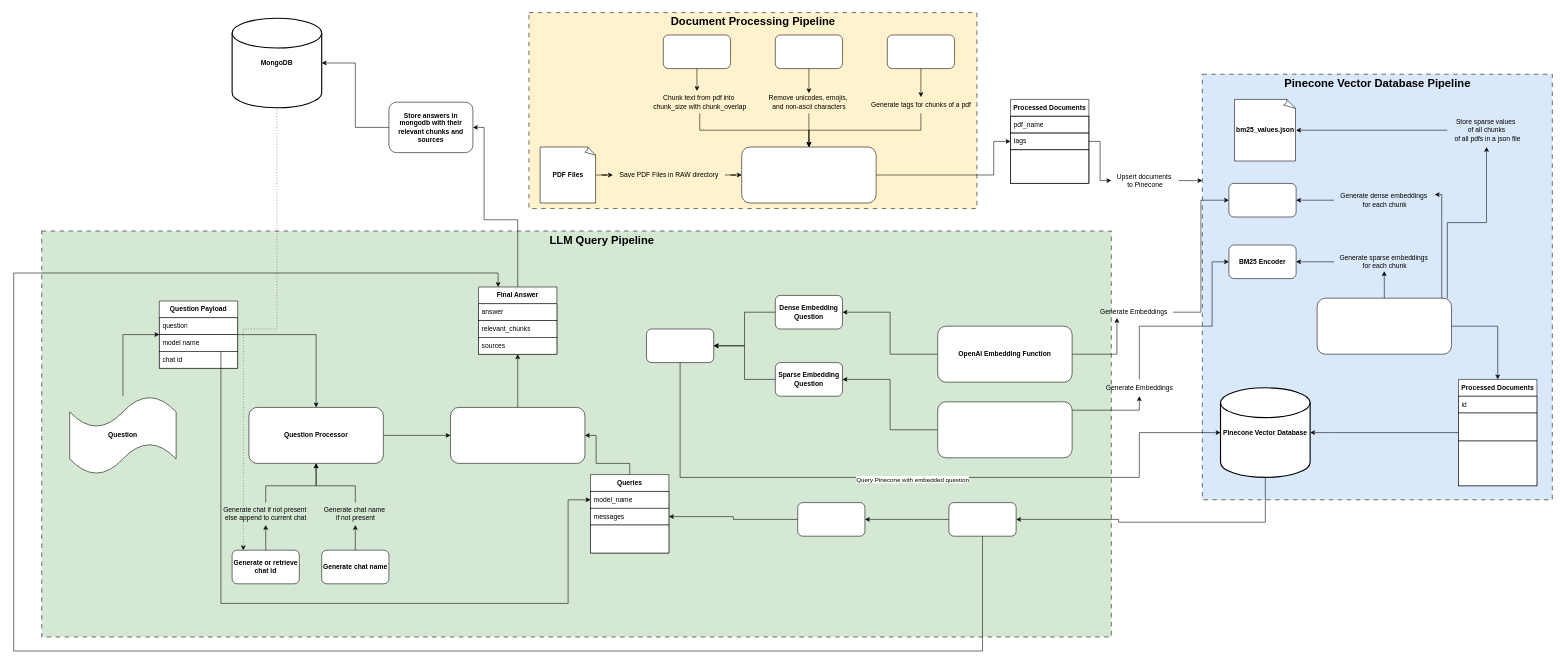
This 1562x665 diagram has some shape labels left out. Each missing label, with the centre of its shape:
BM25 Encoder Function: point 1004,429
Build system and user prompt: point 831,519
chunks chunk_text page_num: point 1049,166
Clean Text: point 809,51
dense_values sparse_values: point 1497,426
Detect Tags: point 921,51
Document Processor: point 808,174
Hybrid Weighting Question: point 680,345
metadata text source_file page_number subjects: point 1497,463
OpenAI Embedding: point 1262,200
Pinecone Service: point 1384,326
PyPDFLoader: point 697,51
Query LLM: point 517,435
Retrieve top_k relevant chunks: point 982,519
temperature tokens: point 629,538
